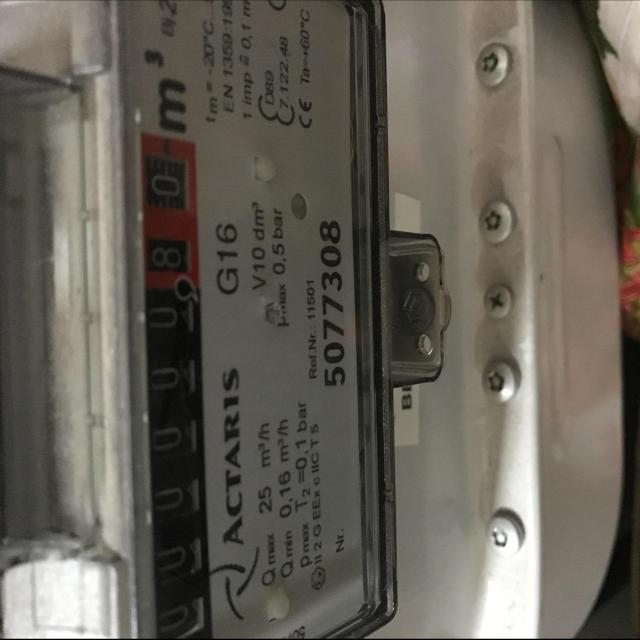gaz_meter: (104, 0, 397, 640)
indication: (139, 132, 207, 636)
